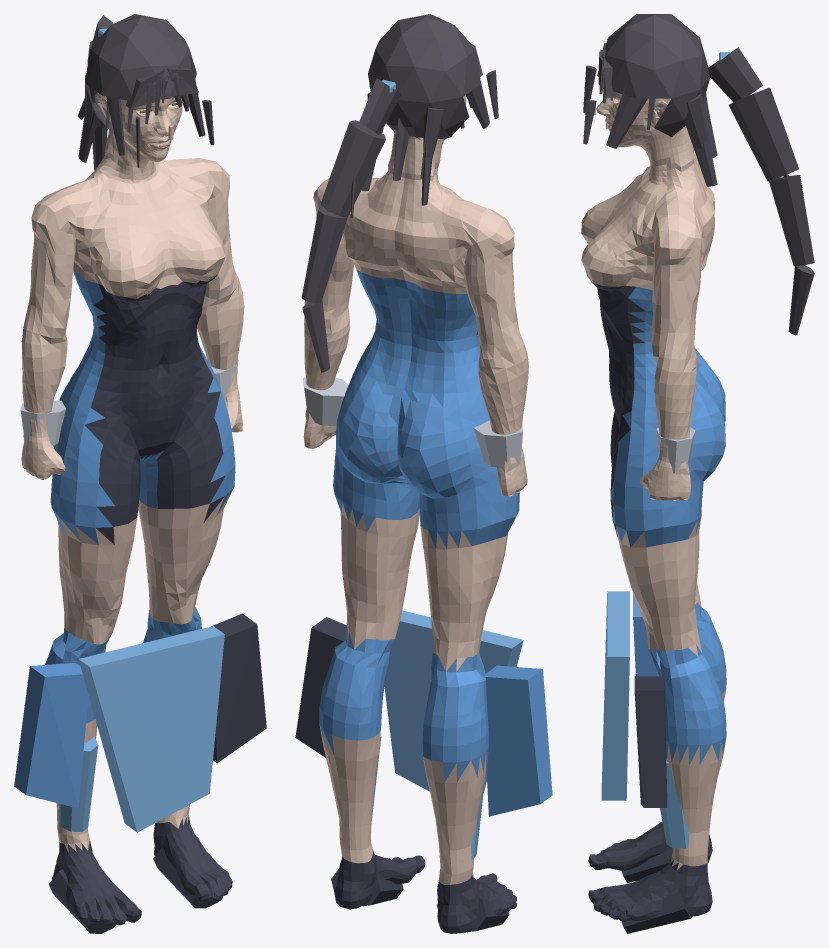
Rendered from sera-blender-runtime.glb.
3 renders of one model, left to right at view 1: azimuth 30°, elevation 25°; view 2: azimuth 150°, elevation 25°; view 3: azimuth 270°, elevation 25°, orthographic.
Visible parts, largest first — view 1: Runtime_SERA_Body_Base, Runtime_SERA_FrontSkirt, Runtime_SERA_LeftSkirt, Runtime_SERA_HairCap, Runtime_SERA_Body_Shoulder_r, Runtime_SERA_RightSkirt, Runtime_SERA_Body_UpperArm_r, Runtime_SERA_Body_Shoulder_l, Runtime_SERA_Body_Forearm_r, Runtime_SERA_Body_Forearm_l, Runtime_SERA_Body_UpperArm_l, Runtime_SERA_Shin_r (+7 smaller); view 2: Runtime_SERA_Body_Base, Runtime_SERA_HairCap, Runtime_SERA_LeftSkirt, Runtime_SERA_FrontSkirt, Runtime_SERA_Body_UpperArm_r, Runtime_SERA_Body_Forearm_r, Runtime_SERA_Body_Shoulder_r, Runtime_SERA_RightSkirt, Runtime_SERA_Pony1, Runtime_SERA_Pony2, Runtime_SERA_Body_Forearm_l, Runtime_SERA_Body_UpperArm_l (+12 smaller); view 3: Runtime_SERA_Body_Base, Runtime_SERA_HairCap, Runtime_SERA_Body_UpperArm_l, Runtime_SERA_Body_Shoulder_l, Runtime_SERA_FrontSkirt, Runtime_SERA_RightSkirt, Runtime_SERA_Body_Forearm_l, Runtime_SERA_Pony1, Runtime_SERA_Pony2, Runtime_SERA_PonyRoot, Runtime_SERA_Shin_l, Runtime_SERA_Body_Hand_l (+9 smaller).
Boxes of the visible parts, box(x1,y1,x2,y2) form: Runtime_SERA_Body_Base: box(45, 92, 235, 925); Runtime_SERA_FrontSkirt: box(78, 626, 224, 832); Runtime_SERA_LeftSkirt: box(14, 662, 88, 808); Runtime_SERA_HairCap: box(85, 14, 196, 135); Runtime_SERA_Body_Shoulder_r: box(48, 158, 156, 260); Runtime_SERA_RightSkirt: box(211, 613, 266, 763); Runtime_SERA_Body_UpperArm_r: box(23, 192, 75, 337); Runtime_SERA_Body_Shoulder_l: box(142, 158, 221, 229); Runtime_SERA_Body_Forearm_r: box(21, 324, 67, 451); Runtime_SERA_Body_Forearm_l: box(197, 277, 244, 398); Runtime_SERA_Body_UpperArm_l: box(200, 158, 239, 293); Runtime_SERA_Shin_r: box(59, 736, 98, 832); Runtime_SERA_Body_Base: box(319, 95, 519, 933); Runtime_SERA_HairCap: box(368, 14, 480, 138); Runtime_SERA_LeftSkirt: box(485, 665, 552, 816); Runtime_SERA_FrontSkirt: box(384, 610, 523, 792); Runtime_SERA_Body_UpperArm_r: box(461, 209, 523, 358); Runtime_SERA_Body_Forearm_r: box(478, 343, 528, 475); Runtime_SERA_Body_Shoulder_r: box(421, 174, 504, 278); Runtime_SERA_RightSkirt: box(295, 617, 346, 757); Runtime_SERA_Pony1: box(320, 120, 385, 217); Runtime_SERA_Pony2: box(301, 208, 347, 302); Runtime_SERA_Body_Forearm_l: box(304, 298, 349, 427); Runtime_SERA_Body_UpperArm_l: box(306, 178, 353, 317); Runtime_SERA_Body_Base: box(581, 92, 726, 922); Runtime_SERA_HairCap: box(597, 14, 710, 137); Runtime_SERA_Body_UpperArm_l: box(651, 214, 701, 359); Runtime_SERA_Body_Shoulder_l: box(608, 168, 711, 267); Runtime_SERA_FrontSkirt: box(601, 591, 629, 800); Runtime_SERA_RightSkirt: box(634, 676, 667, 807); Runtime_SERA_Body_Forearm_l: box(653, 346, 696, 480); Runtime_SERA_Pony1: box(728, 88, 798, 181); Runtime_SERA_Pony2: box(769, 175, 814, 266); Runtime_SERA_PonyRoot: box(708, 47, 762, 101); Runtime_SERA_Shin_l: box(660, 760, 699, 848); Runtime_SERA_Body_Hand_l: box(640, 462, 690, 500).
Size of the model in its own units: 0.3128 by 1.11 by 0.2627.
